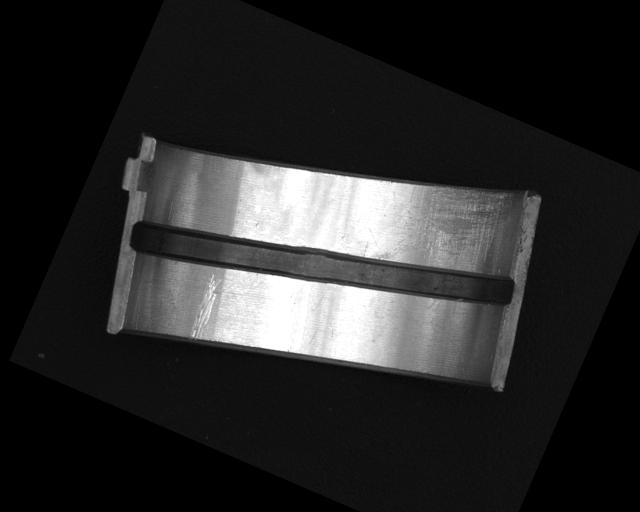gap: (124, 133, 518, 395)
nick: (182, 272, 227, 344)
scratch: (373, 153, 520, 301)
